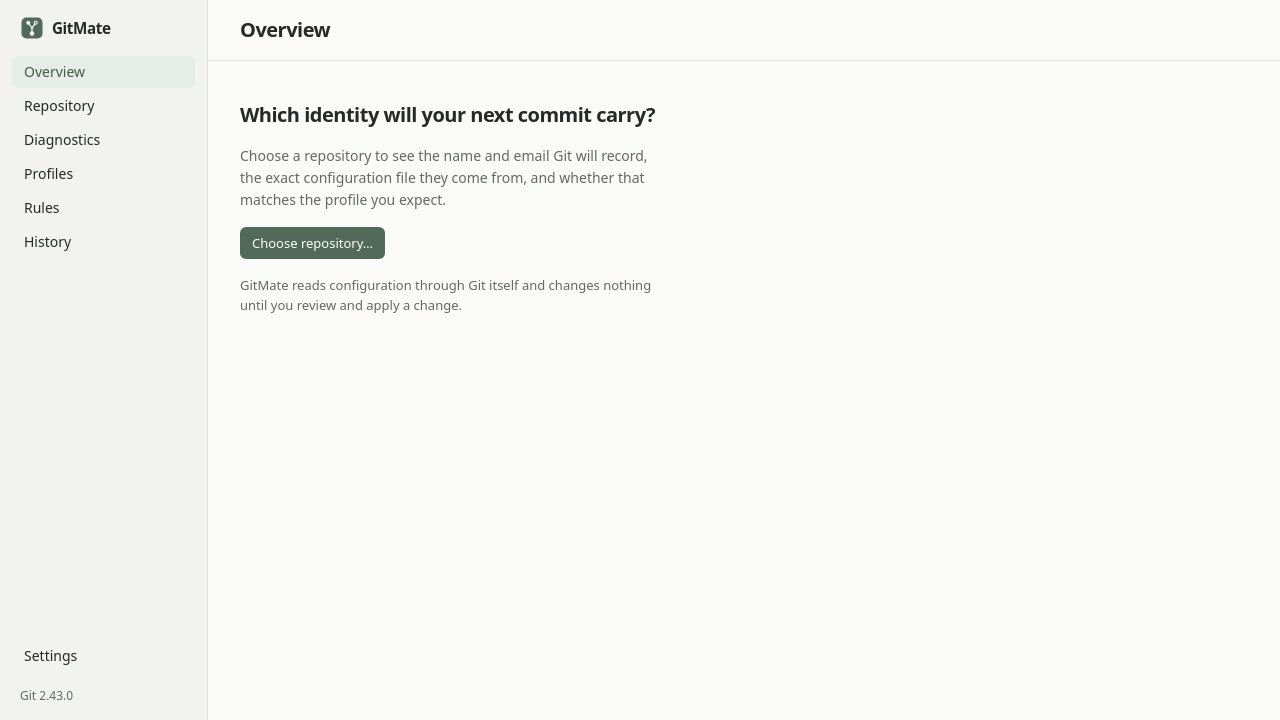
Test: App › summarises diagnostics with correct grammar
This screenshot has width=1280, height=720.
Click the button "Diagnostics": (104, 140) x1=12 y1=124 x2=195 y2=156
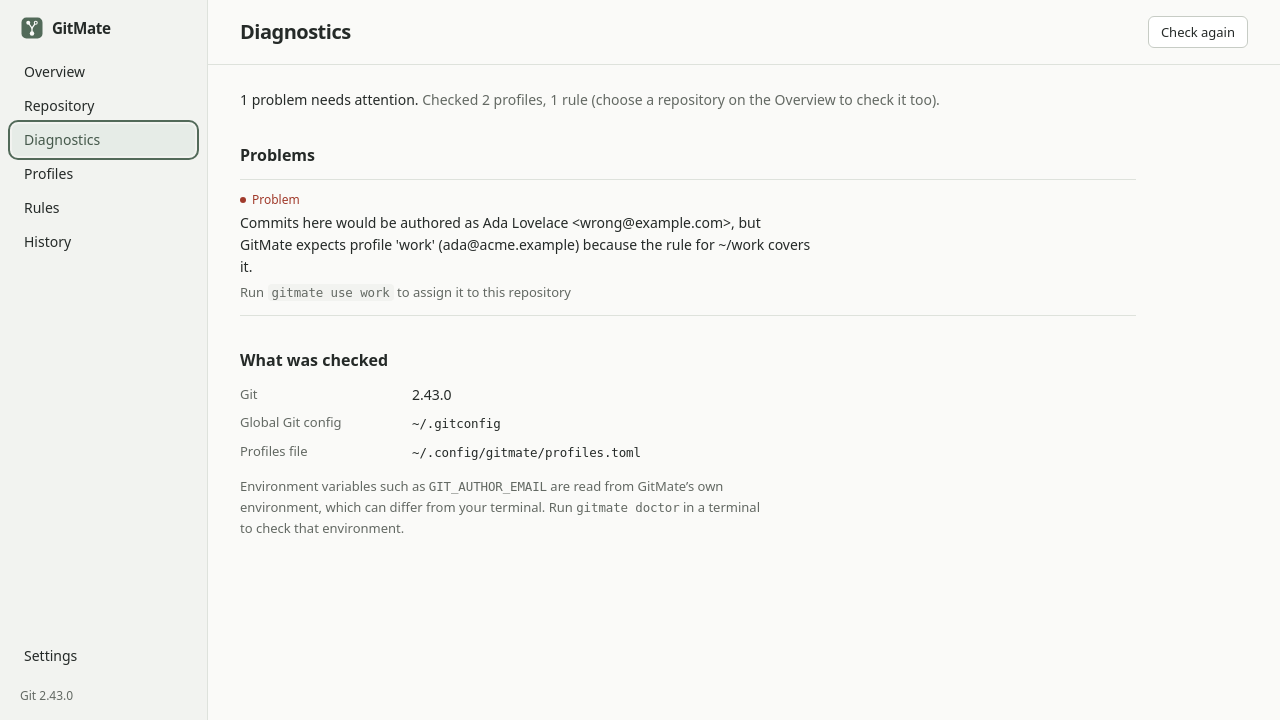
Check: the message shows "1 problem needs attention.", box x1=240 y1=90 x2=940 y2=109
